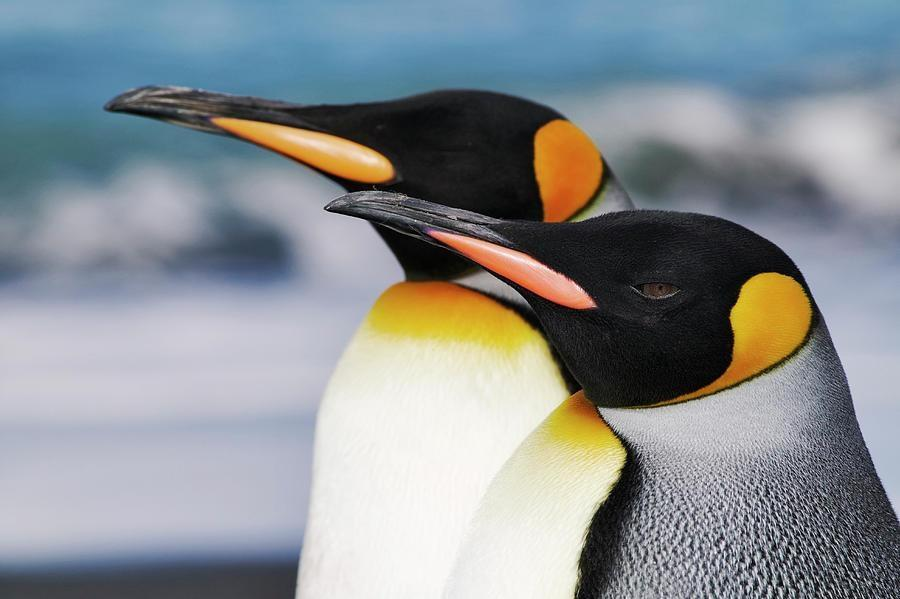Penguin: (327, 192, 900, 598), (299, 229, 573, 598), (107, 86, 630, 220)
